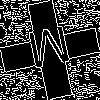M: (25, 25, 75, 78)
